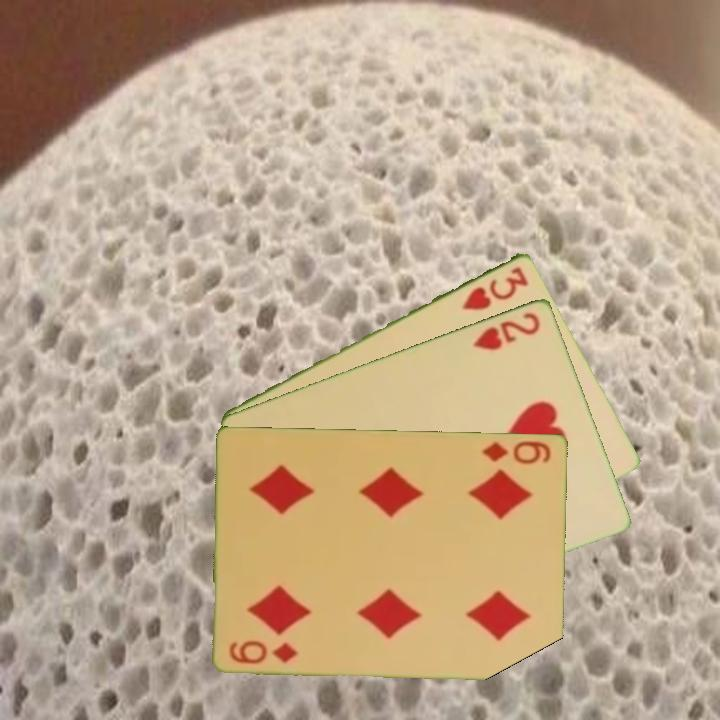2h: (470, 308, 544, 353)
3h: (458, 262, 532, 313)
6d: (226, 636, 302, 667), (479, 437, 554, 467)
